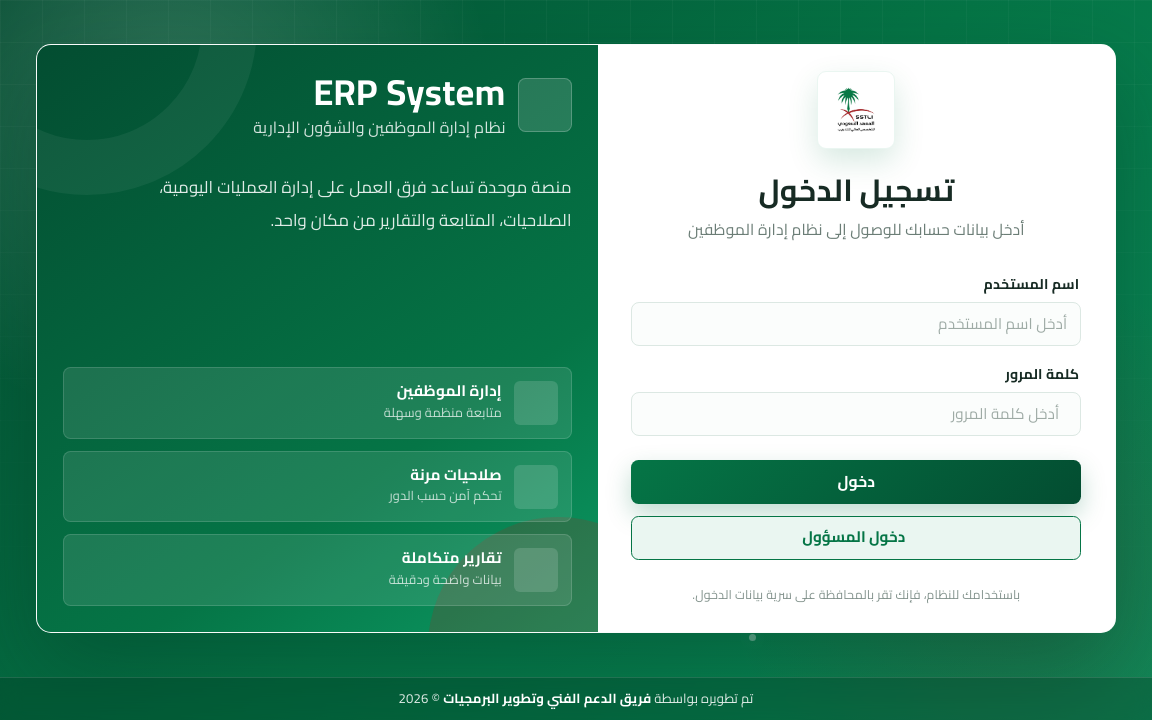
Test: Arabic login keeps its controls and rejects an empty submission locally
Expected: the heading "تسجيل الدخول" is shown, [758, 161, 954, 218]
Expected: the field labelled "اسم المستخدم" is shown, [639, 304, 1067, 344]
Click the button "دخول".
click(856, 482)  # box [631, 460, 1081, 504]
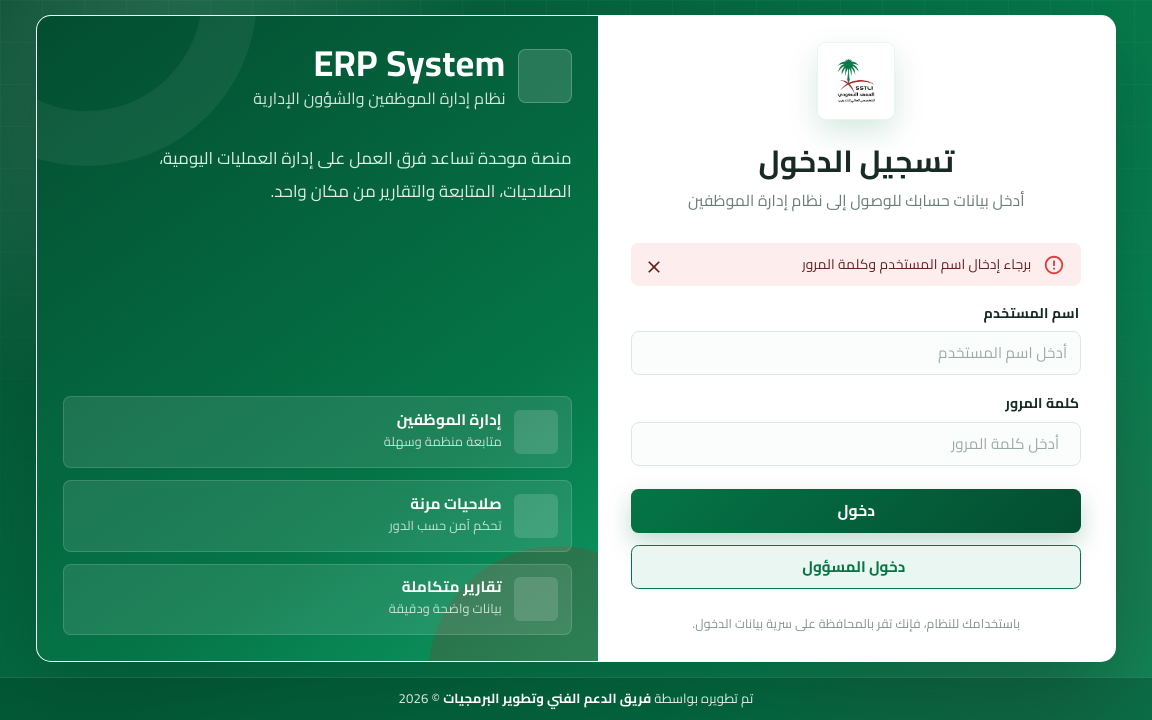
Expected: the text "برجاء إدخال اسم المستخدم وكلمة المرور" is shown, [802, 247, 1031, 283]
